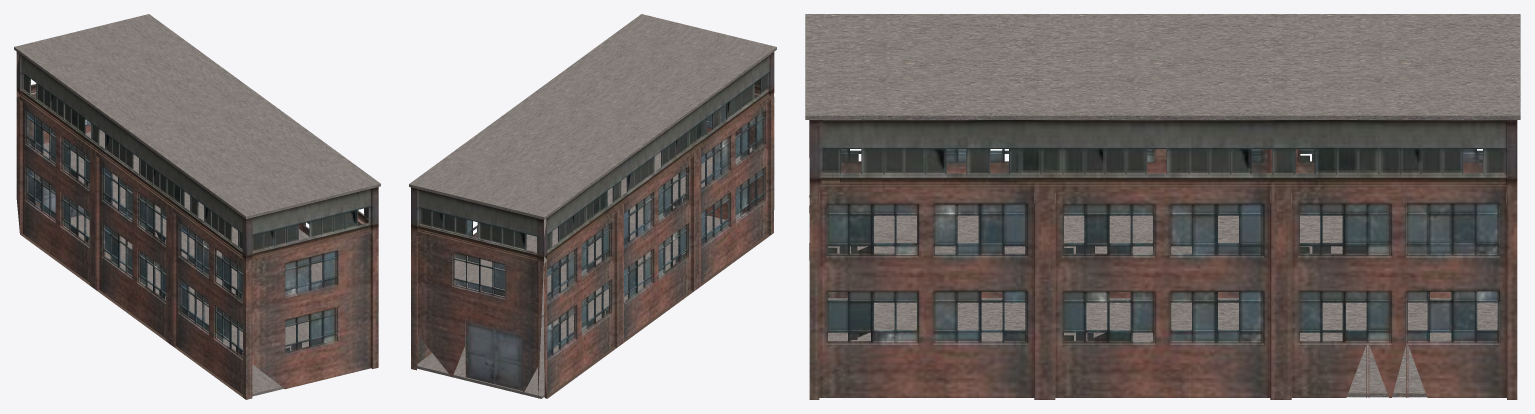
Rendered from industrial.glb.
The picture shows the model from 3 angles, left to right: view 1: azimuth 30°, elevation 25°; view 2: azimuth 150°, elevation 25°; view 3: azimuth 270°, elevation 25°; orthographic projection. The views are drawn at different scales.
Visible parts, largest first — view 1: building _building _0, building floor, building top, building windows; view 2: building _building _0 (×2), building floor, building top, building windows; view 3: building _building _0, building floor, building windows, building top.
Boxes of the visible parts, box(x1,y1,x2,y2) form: building _building _0: box(16, 89, 378, 399); building floor: box(14, 14, 380, 396); building top: box(16, 52, 378, 261); building windows: box(24, 74, 368, 356); building _building _0 (×2): box(411, 90, 774, 398); building floor: box(409, 14, 776, 398); building top: box(411, 52, 774, 262); building windows: box(420, 74, 766, 357); building _building _0: box(809, 120, 1517, 399); building floor: box(805, 14, 1520, 397); building windows: box(821, 149, 1504, 340); building top: box(809, 120, 1517, 186).
Size of the model in its own units: 1161 by 1517 by 3451.
Materials: 3 (3 with a texture image).
